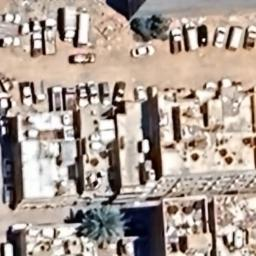SUV: (97, 79, 111, 107), (112, 79, 126, 107)
others: (75, 8, 93, 48)
pickup: (168, 25, 184, 58), (17, 80, 34, 108), (30, 32, 45, 58), (243, 21, 256, 50), (0, 11, 23, 25)
sedan: (68, 51, 100, 67), (86, 78, 102, 109), (76, 80, 90, 110), (130, 44, 156, 60), (213, 24, 227, 50), (132, 84, 150, 102), (198, 22, 210, 48)
truck: (60, 4, 78, 43)
unknown: (42, 15, 56, 54), (227, 23, 243, 54), (50, 82, 64, 112), (65, 86, 78, 112)
van: (182, 20, 200, 53)
